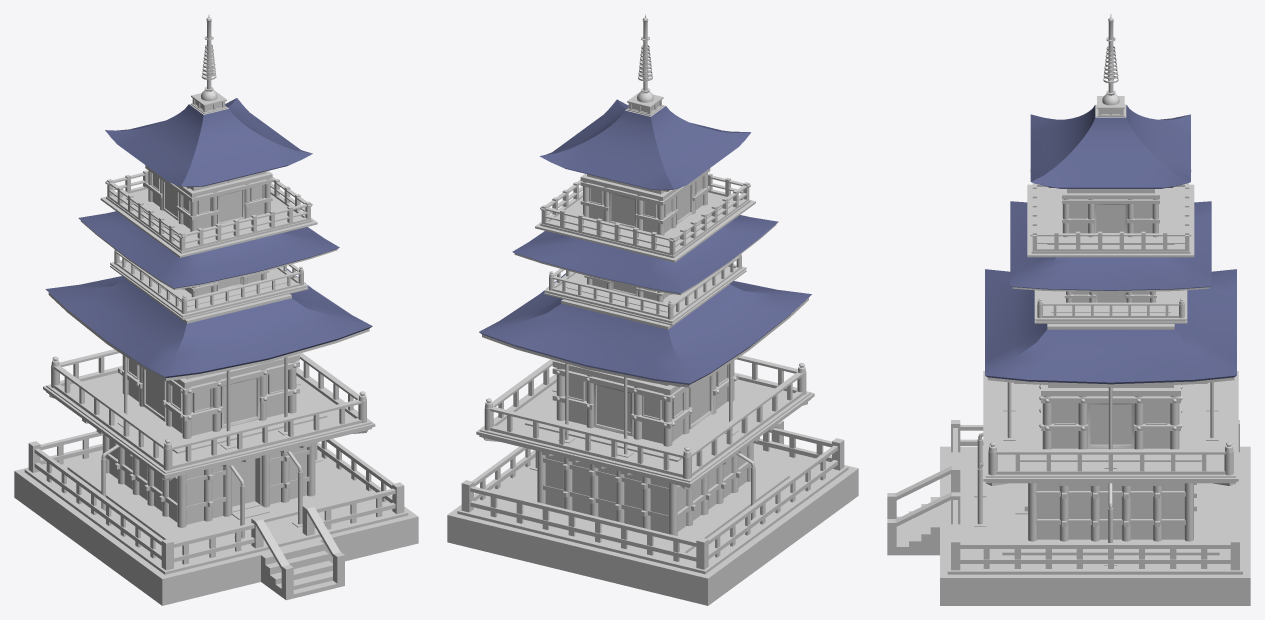
File: AsianTemple.fbx
3 views of the same model, side by side, from view 1: azimuth 30°, elevation 25°; view 2: azimuth 150°, elevation 25°; view 3: azimuth 270°, elevation 25° (orthographic). The views are drawn at different scales.
Parts seen in each view (by area): view 1: Japanese_Shrine; view 2: Japanese_Shrine; view 3: Japanese_Shrine.
Part boxes in pixels (bbox=[...]): Japanese_Shrine: bbox=[14, 14, 418, 605]; Japanese_Shrine: bbox=[447, 14, 858, 605]; Japanese_Shrine: bbox=[887, 14, 1250, 605].
Size of the model in its own units: 2000 by 3738 by 2340.
